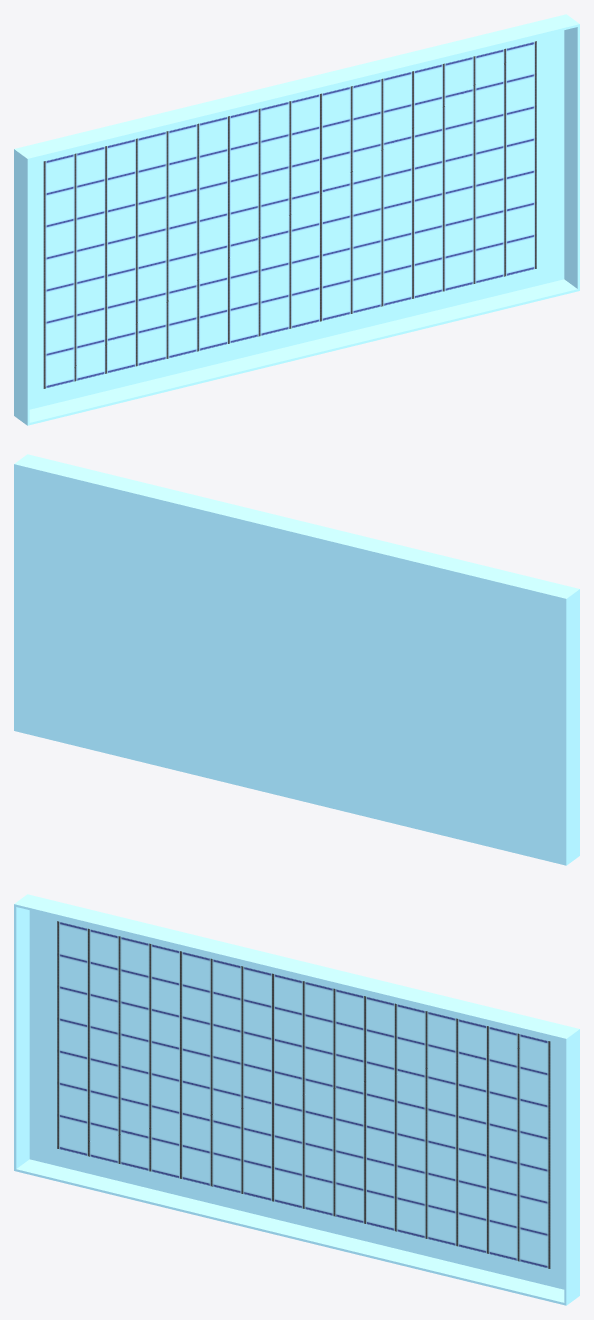
Rendered from woollett_pool.glb.
3 renders of one model, top to bottom at view 1: azimuth 30°, elevation 25°; view 2: azimuth 150°, elevation 25°; view 3: azimuth 330°, elevation 25°, orthographic.
Visible parts, largest first — view 1: grid, floor, wall_ypos, wall_yneg, wall_xneg, wall_xpos; view 2: floor, wall_ypos, wall_xneg, wall_yneg, wall_xpos; view 3: grid, floor, wall_ypos, wall_yneg, wall_xpos, wall_xneg.
Boxes of the visible parts, bbox=[...] form: grid: bbox=[43, 41, 536, 388]; floor: bbox=[29, 30, 564, 409]; wall_ypos: bbox=[16, 15, 577, 160]; wall_yneg: bbox=[29, 279, 577, 424]; wall_xneg: bbox=[14, 148, 29, 425]; wall_xpos: bbox=[564, 14, 579, 291]; floor: bbox=[16, 467, 564, 862]; wall_ypos: bbox=[16, 455, 577, 600]; wall_xneg: bbox=[564, 588, 579, 865]; wall_yneg: bbox=[16, 729, 564, 864]; wall_xpos: bbox=[14, 454, 29, 731]; grid: bbox=[57, 921, 550, 1268]; floor: bbox=[29, 910, 564, 1289]; wall_ypos: bbox=[16, 895, 577, 1040]; wall_yneg: bbox=[16, 1159, 564, 1304]; wall_xpos: bbox=[564, 1028, 579, 1305]; wall_xneg: bbox=[14, 894, 29, 1171].
Size of the model in its own units: 50.4 by 23.26 by 2.13.
1 material, 1 textured.
